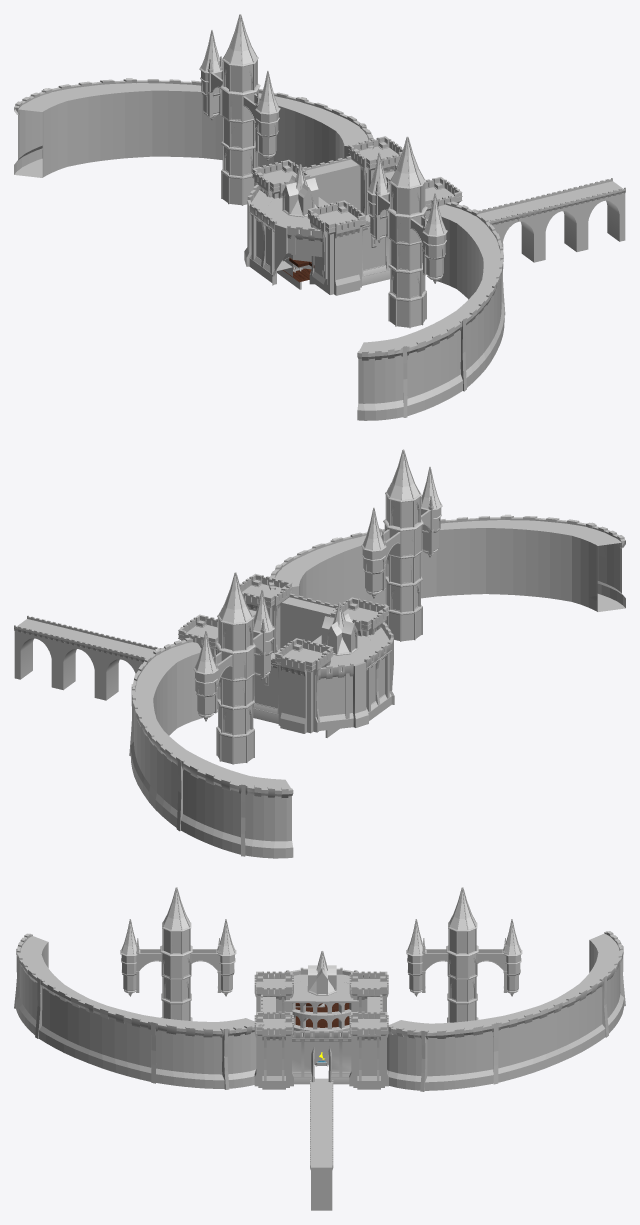
The model's file is 왕국최적화.fbx.
The picture shows the model from 3 angles, top to bottom: view 1: azimuth 30°, elevation 25°; view 2: azimuth 150°, elevation 25°; view 3: azimuth 270°, elevation 25°; orthographic projection. The views are drawn at different scales.
Parts seen in each view (by area): view 1: Cube; view 2: Cube; view 3: Cube.
Boxes of the visible parts, x1,y1,x2,y2 form: Cube: (14, 14, 625, 420); Cube: (14, 449, 625, 858); Cube: (14, 887, 625, 1210).
Bounding box in the file's own units: 16415 × 8354 × 23216.
